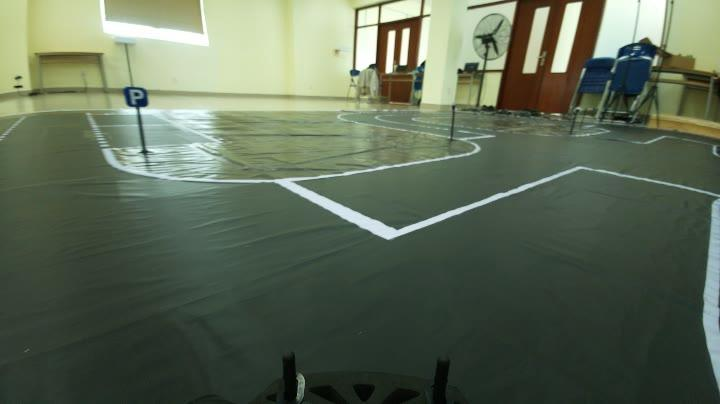parking: (122, 84, 152, 110)
